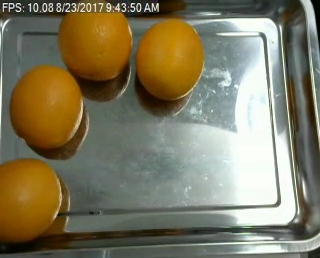Orange: (56, 1, 131, 82), (9, 65, 83, 147), (136, 18, 205, 100), (1, 158, 63, 242)
